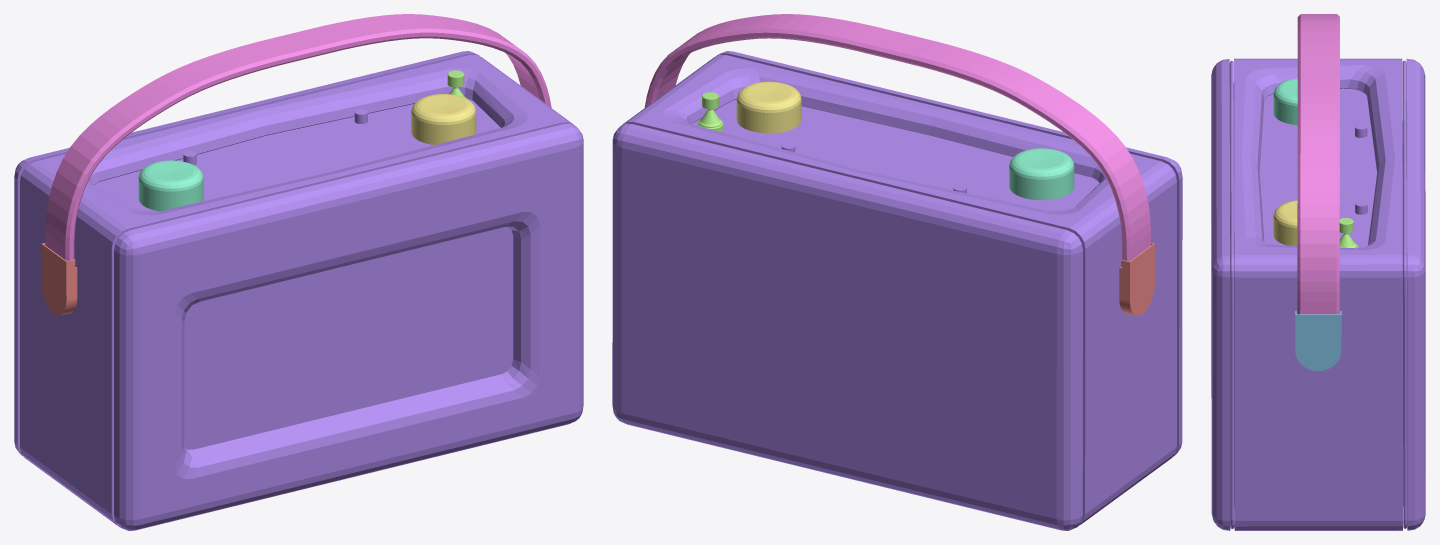
File: speaker_r.glb
3 views of the same model, side by side, from view 1: azimuth 30°, elevation 25°; view 2: azimuth 150°, elevation 25°; view 3: azimuth 270°, elevation 25° (orthographic). The views are drawn at different scales.
Visible parts, largest first — view 1: Part_5, Part_6, Part_3, Part_1, Part_0; view 2: Part_5, Part_6, Part_3, Part_1, Part_0, Part_2; view 3: Part_5, Part_6, Part_4, Part_3, Part_1, Part_2.
Part boxes in pixels (x1,y1,x2,y2): Part_5: [14, 51, 583, 530]; Part_6: [45, 14, 551, 260]; Part_3: [138, 160, 203, 211]; Part_1: [411, 94, 476, 144]; Part_0: [41, 243, 77, 315]; Part_5: [612, 51, 1182, 530]; Part_6: [644, 14, 1150, 267]; Part_3: [1009, 148, 1074, 200]; Part_1: [736, 81, 801, 133]; Part_0: [1119, 243, 1155, 315]; Part_2: [697, 92, 723, 131]; Part_5: [1211, 58, 1425, 530]; Part_6: [1297, 14, 1339, 314]; Part_4: [1295, 311, 1341, 370]; Part_3: [1273, 78, 1297, 125]; Part_1: [1273, 200, 1297, 245]; Part_2: [1339, 218, 1357, 248].
Size of the model in its own units: 1.99 by 1.55 by 0.823.
